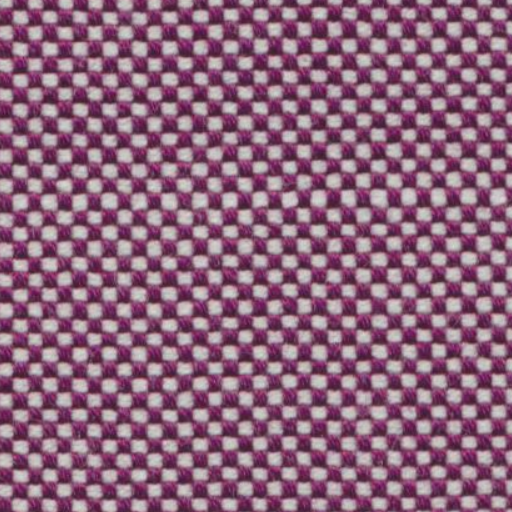TuoSha: (10, 155, 497, 246)
